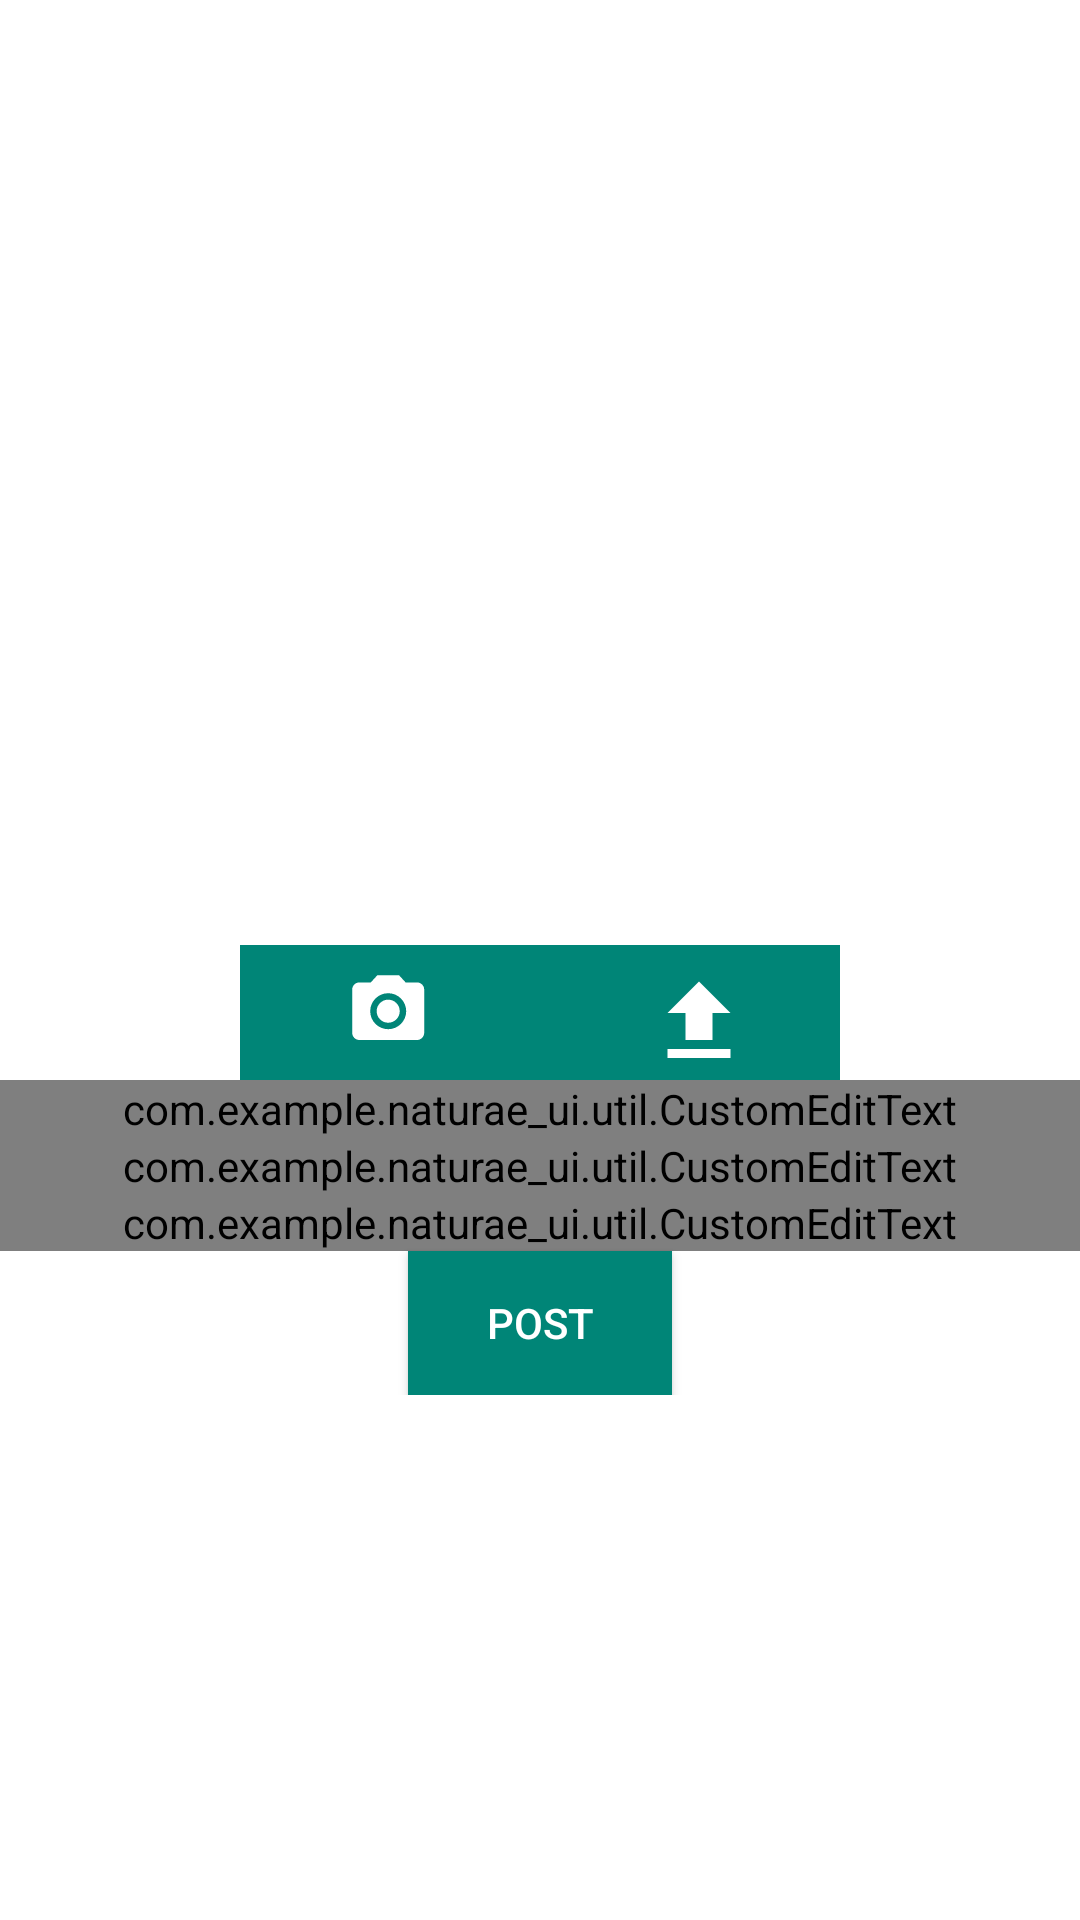

Screen size 1080*1920. Icon name, then its center in pixels as [x,y]:
file upload: [690,1012]
photo camera: [390,1012]
